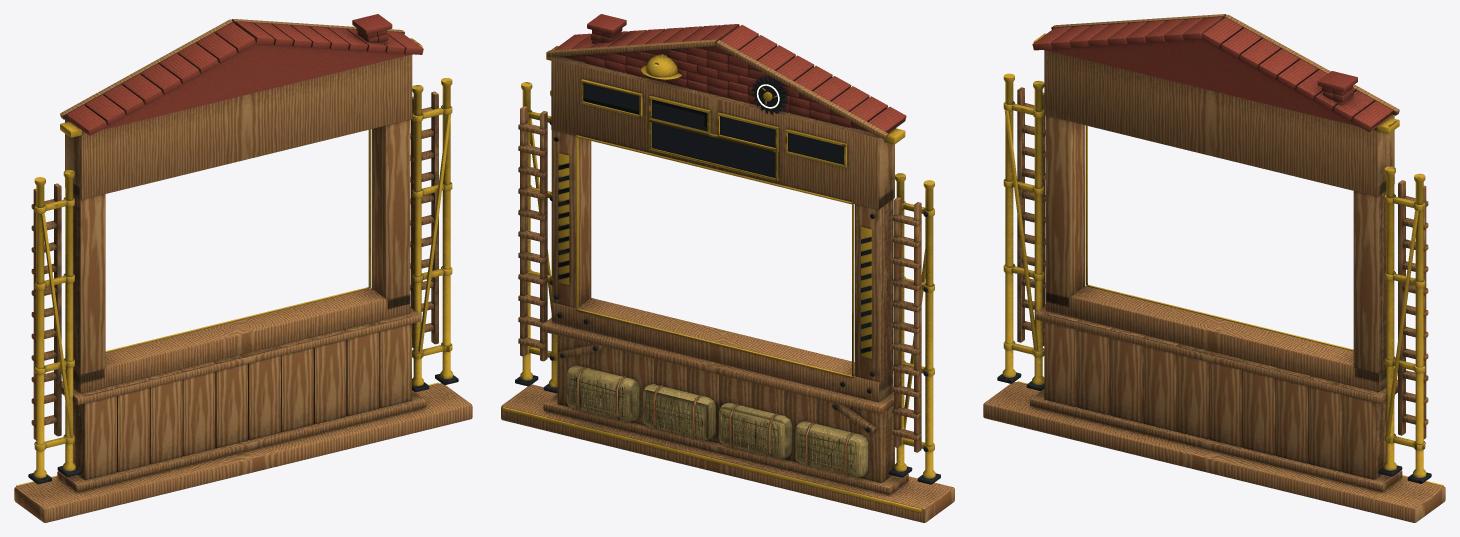
The picture shows the model from 3 angles, left to right: view 1: azimuth 30°, elevation 25°; view 2: azimuth 150°, elevation 25°; view 3: azimuth 330°, elevation 25°; orthographic projection.
Parts seen in each view (by area): view 1: Warm_oak, Terracotta_brick, Safety_yellow_enamel, Dark_iron; view 2: Warm_oak, Safety_yellow_enamel, Terracotta_brick, Straw_fibres, Dark_iron; view 3: Warm_oak, Terracotta_brick, Safety_yellow_enamel, Dark_iron.
Boxes of the visible parts, x1,y1,x2,y2 form: Warm_oak: (14,19,472,522); Terracotta_brick: (66,14,423,135); Safety_yellow_enamel: (16,38,453,486); Dark_iron: (28,105,458,484); Warm_oak: (501,39,954,522); Safety_yellow_enamel: (502,45,935,512); Terracotta_brick: (553,14,906,133); Straw_fibres: (566,365,868,476); Dark_iron: (515,63,940,484); Warm_oak: (983,14,1445,522); Terracotta_brick: (1032,16,1393,131); Safety_yellow_enamel: (1002,33,1443,486); Dark_iron: (997,101,1431,483).
Bounding box in the file's own units: 10.6 × 10.21 × 1.54.
Materials: 6 (5 with a texture image).
